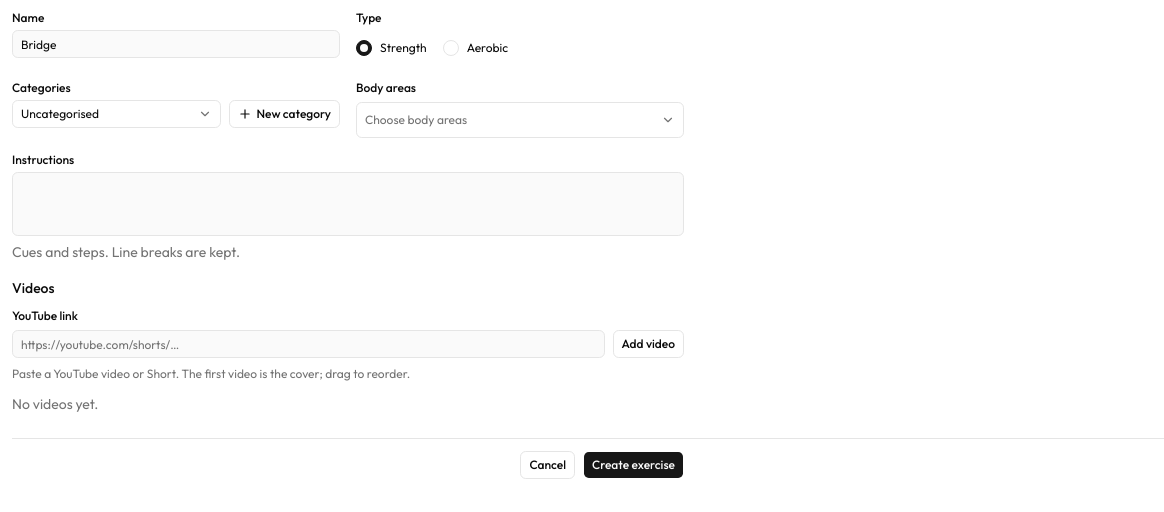
Scenario: ExerciseForm › shows a category error with its limit
Click the button "Create exercise" at (634, 465), box [583,451,684,479]
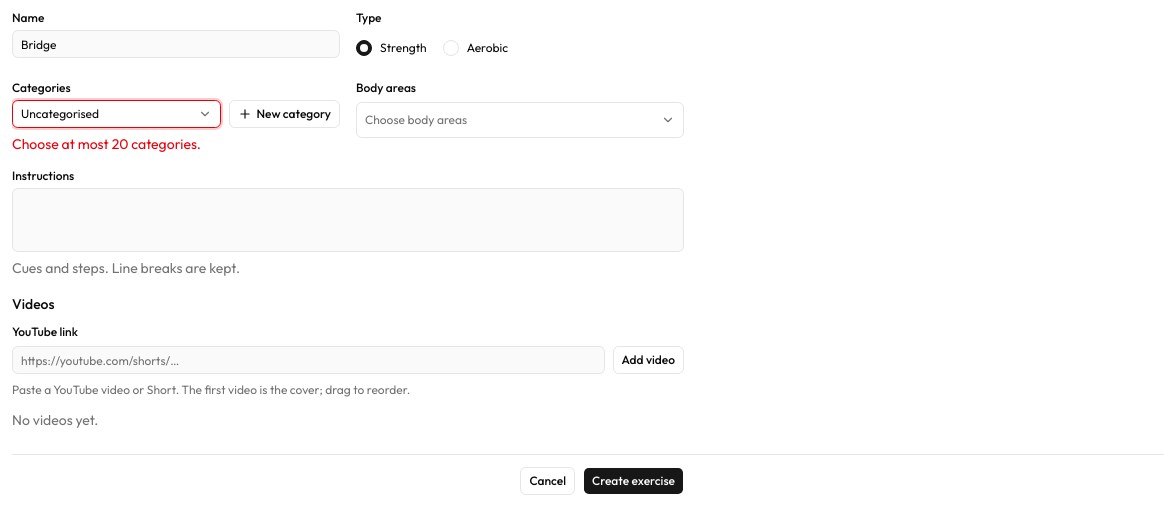
Now the text "Choose at most 20 categories." is shown, box [12,135,201,153]
